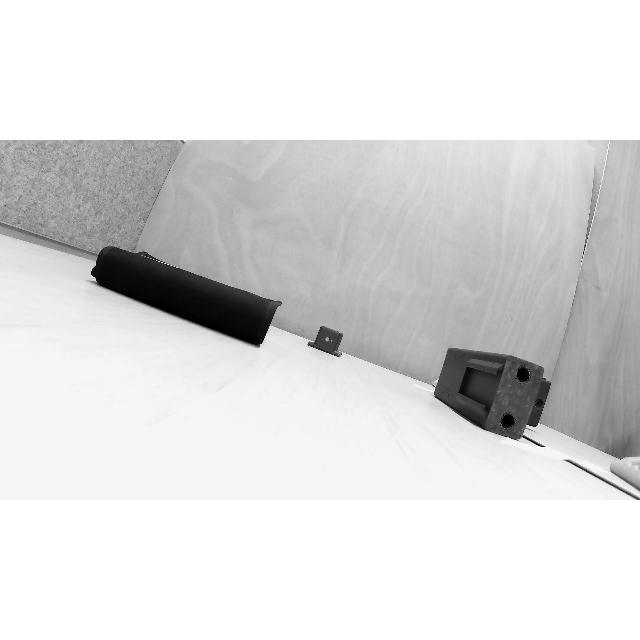targets: (92, 244, 284, 346), (434, 348, 552, 438), (308, 320, 346, 360)
